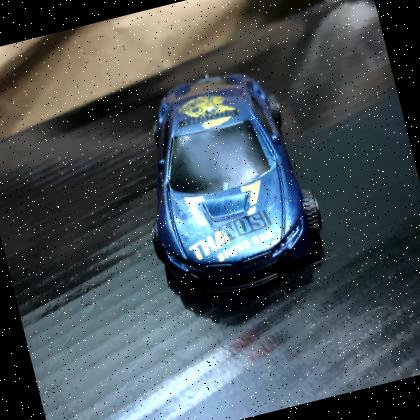Car: (153, 73, 319, 296)
